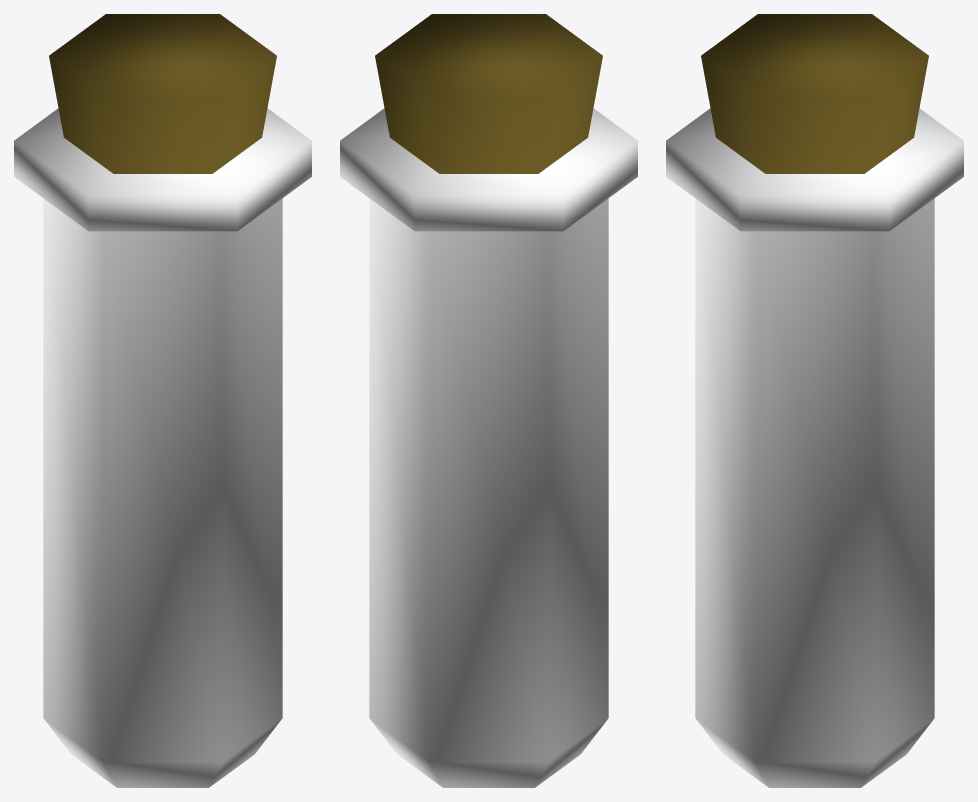
Rendered from VialRed.glb.
3 renders of one model, left to right at view 1: azimuth 30°, elevation 25°; view 2: azimuth 150°, elevation 25°; view 3: azimuth 270°, elevation 25°, orthographic.
Parts seen in each view (by area): view 1: Vial Red; view 2: Vial Red; view 3: Vial Red.
Boxes of the visible parts, <box> form: Vial Red: <box>14,14,311,787</box>; Vial Red: <box>340,14,637,787</box>; Vial Red: <box>666,14,963,787</box>.
Bounding box in the file's own units: 0.1114 × 0.3422 × 0.1286.
